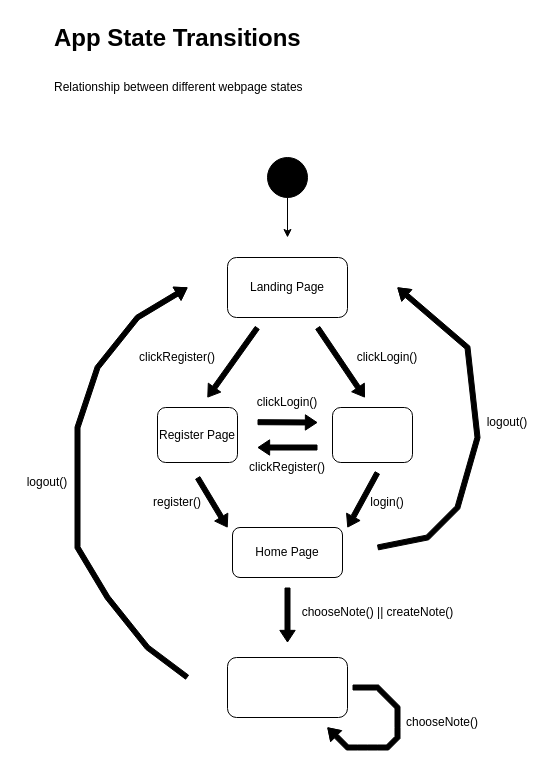
The diagram is 554 pixels wide and 767 high, and some of its shapes have lost their labels. Each missing label, with the centre of its shape:
"Login Page" goes at point (372, 434).
"Note Editor" goes at point (287, 687).
